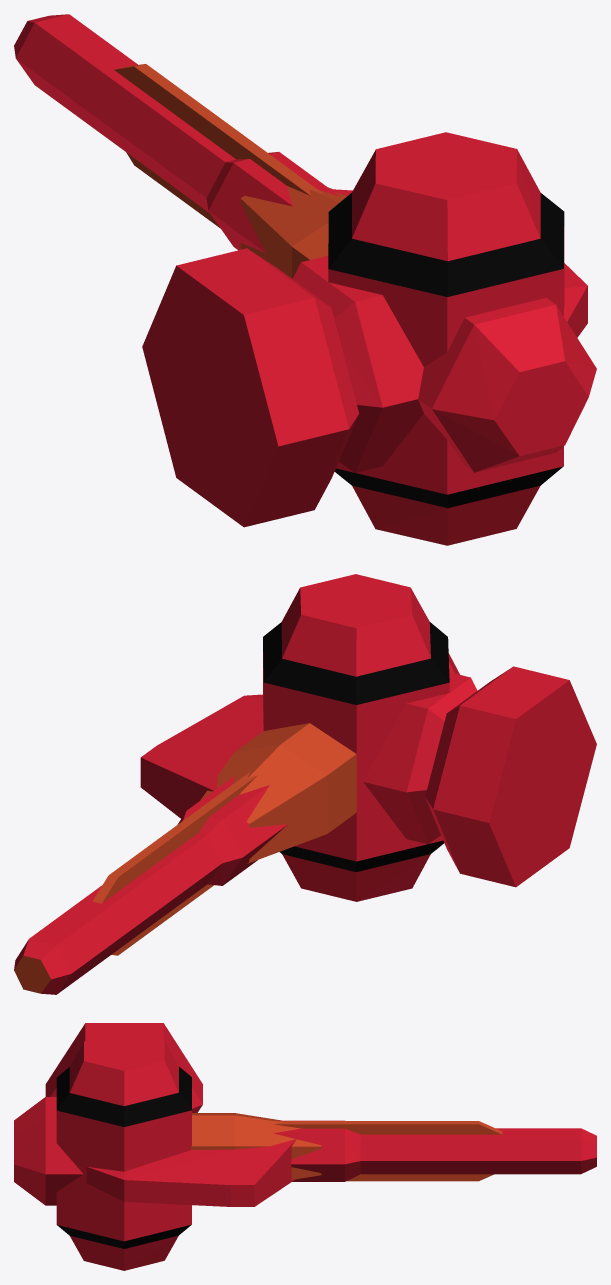
File: Bullet.FBX
3 views of the same model, one above another, from view 1: azimuth 30°, elevation 25°; view 2: azimuth 150°, elevation 25°; view 3: azimuth 270°, elevation 25° (orthographic). The views are drawn at different scales.
Visible parts, largest first — view 1: VIFS001, VIFS003, VIFS002; view 2: VIFS001, VIFS002, VIFS003; view 3: VIFS001, VIFS002, VIFS003.
Boxes of the visible parts, x1,y1,x2,y2 form: VIFS001: (14,14,596,545); VIFS003: (328,193,564,508); VIFS002: (114,64,347,278); VIFS001: (14,574,596,994); VIFS002: (14,723,356,993); VIFS003: (263,622,449,872); VIFS001: (14,1023,596,1270); VIFS002: (191,1113,502,1181); VIFS003: (56,1066,191,1248).
Size of the model in its own units: 0.503 by 0.42 by 1.11.
